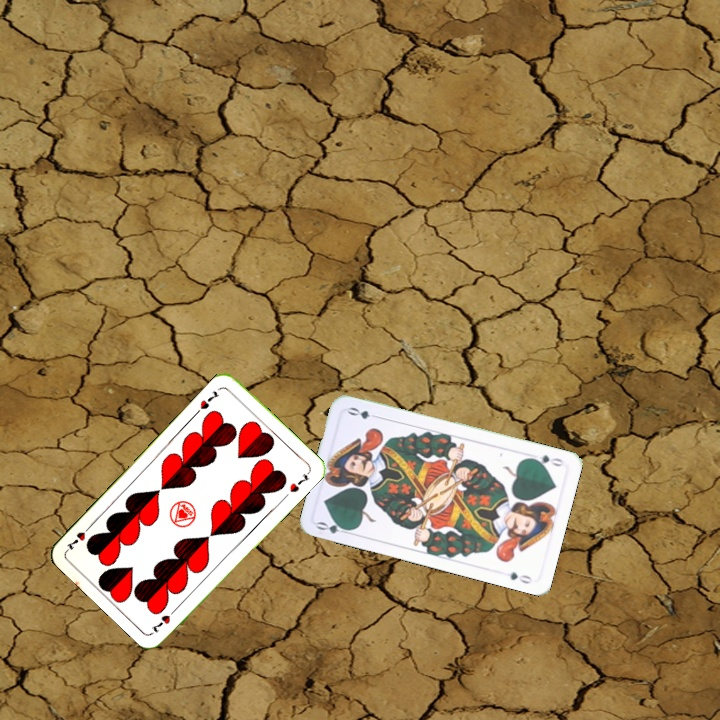GO: (313, 517, 354, 537), (526, 451, 566, 469)
H7: (147, 603, 180, 636), (196, 386, 222, 412)
